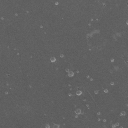corrosion: (66, 68, 75, 79), (49, 55, 58, 63), (74, 106, 82, 115), (75, 89, 83, 96), (93, 88, 100, 96), (108, 81, 115, 88), (109, 57, 115, 64), (53, 1, 60, 7), (103, 88, 109, 94), (85, 74, 91, 80)
